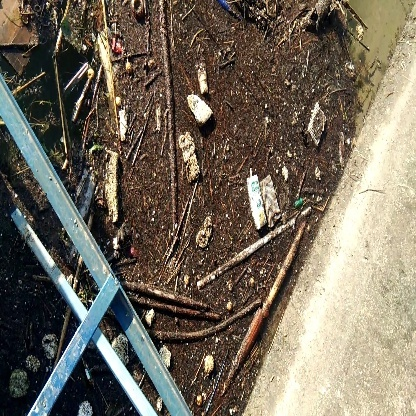branch: (152, 20, 182, 227)
